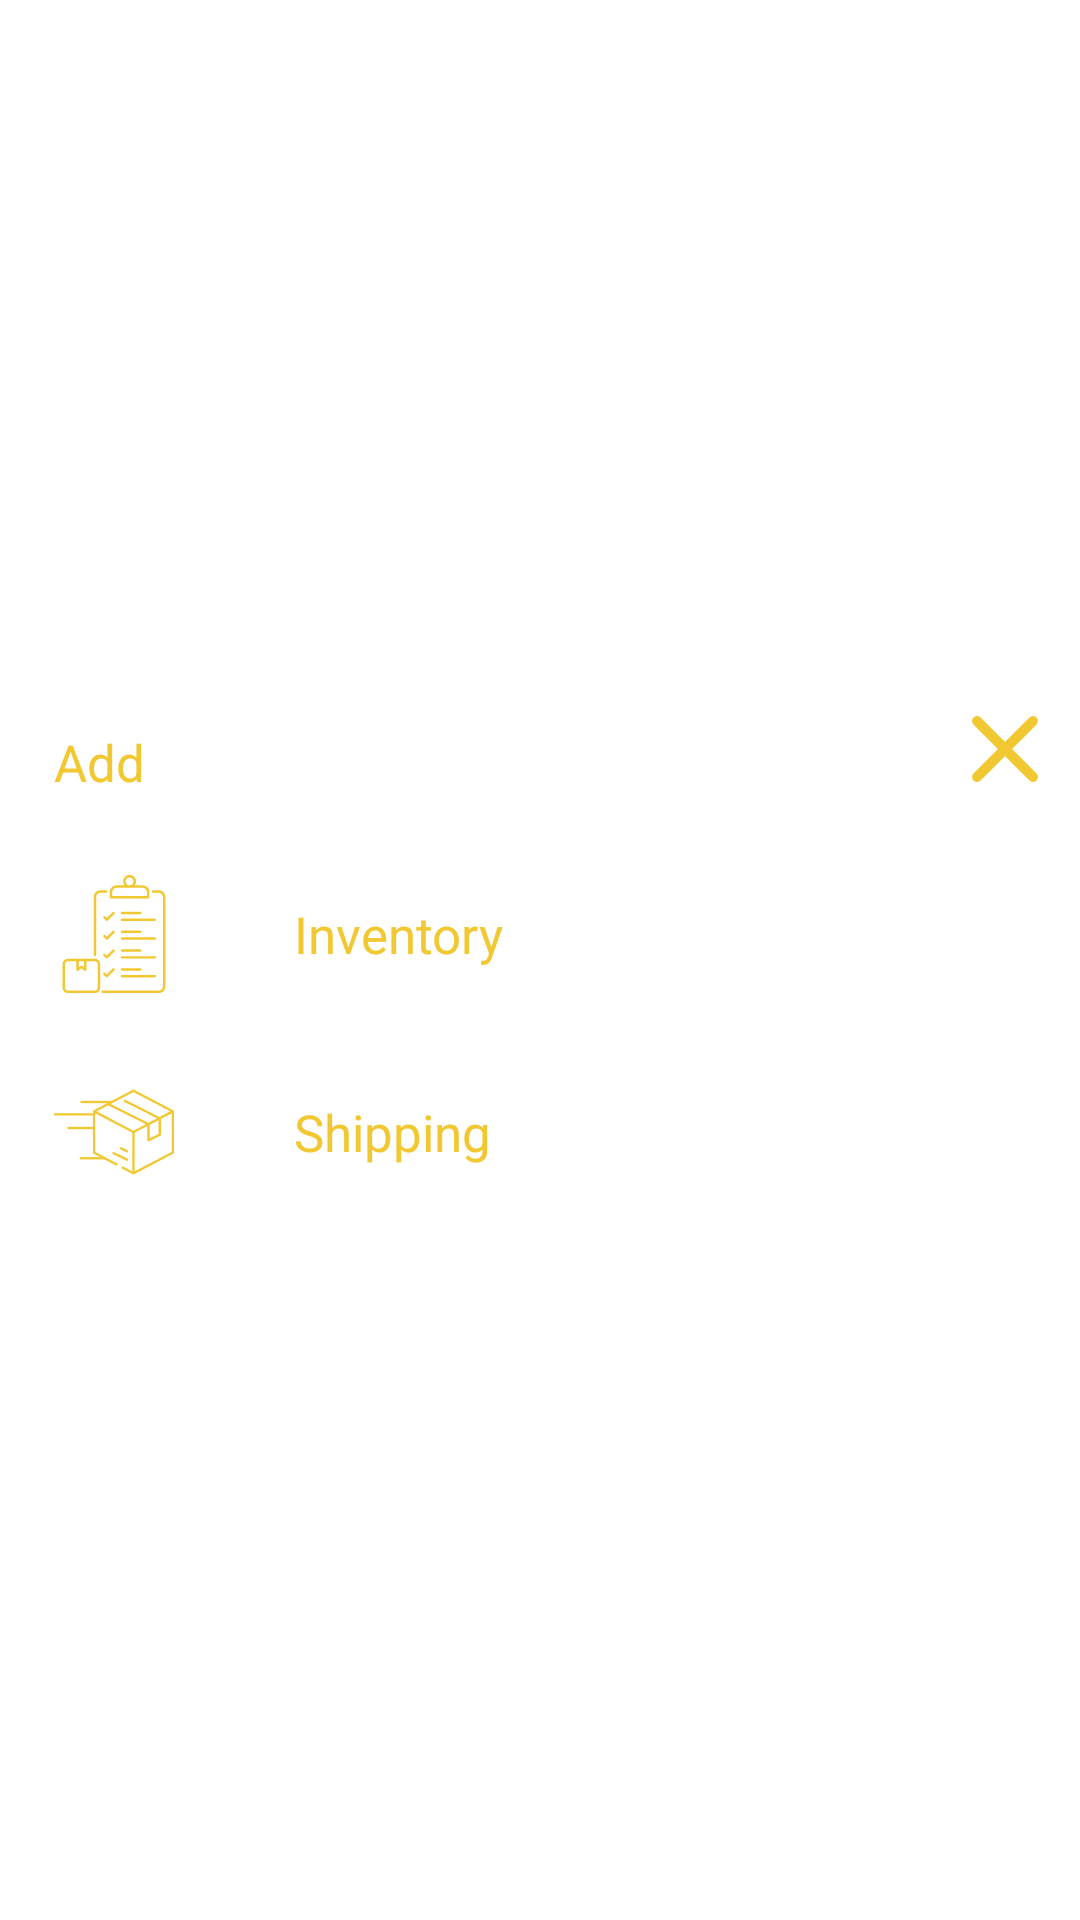

Icon click points for this 1080px×1920px phone screenshot, format (x,y):
clear: (1005,749)
list gold: (114,934)
